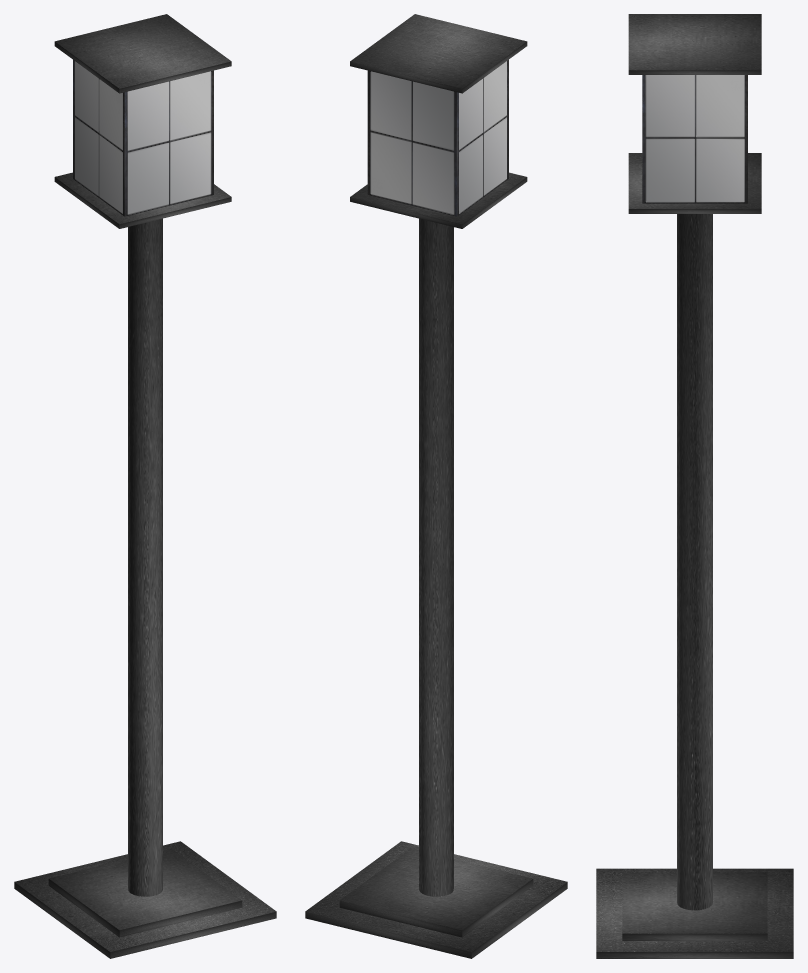
The model's file is Lantern.fbx.
The picture shows the model from 3 angles, left to right: view 1: azimuth 30°, elevation 25°; view 2: azimuth 150°, elevation 25°; view 3: azimuth 270°, elevation 25°; orthographic projection. The views are drawn at different scales.
Parts seen in each view (by area): view 1: Cylinder, Cube_1, Cube__1_, Cube__1__1, Cube, Cube_2; view 2: Cylinder, Cube_1, Cube__1_, Cube__1__1, Cube, Cube_2; view 3: Cylinder, Cube_1, Cube__1_, Cube__1__1, Cube, Cube_2.
Boxes of the visible parts, box(x1,y1,x2,y2) form: Cylinder: box(128, 218, 162, 896); Cube_1: box(73, 60, 213, 216); Cube__1_: box(48, 848, 242, 937); Cube__1__1: box(54, 14, 231, 93); Cube: box(14, 841, 276, 958); Cube_2: box(54, 172, 231, 228); Cylinder: box(419, 218, 453, 896); Cube_1: box(367, 60, 508, 216); Cube__1_: box(339, 848, 533, 937); Cube__1__1: box(350, 14, 527, 93); Cube: box(305, 841, 567, 958); Cube_2: box(350, 172, 527, 228); Cylinder: box(677, 214, 712, 910); Cube_1: box(642, 75, 747, 203); Cube__1_: box(622, 872, 767, 940); Cube__1__1: box(628, 14, 761, 74); Cube: box(596, 868, 793, 958); Cube_2: box(628, 153, 761, 213).
Bounding box in the file's own units: 100 × 489 × 100.
